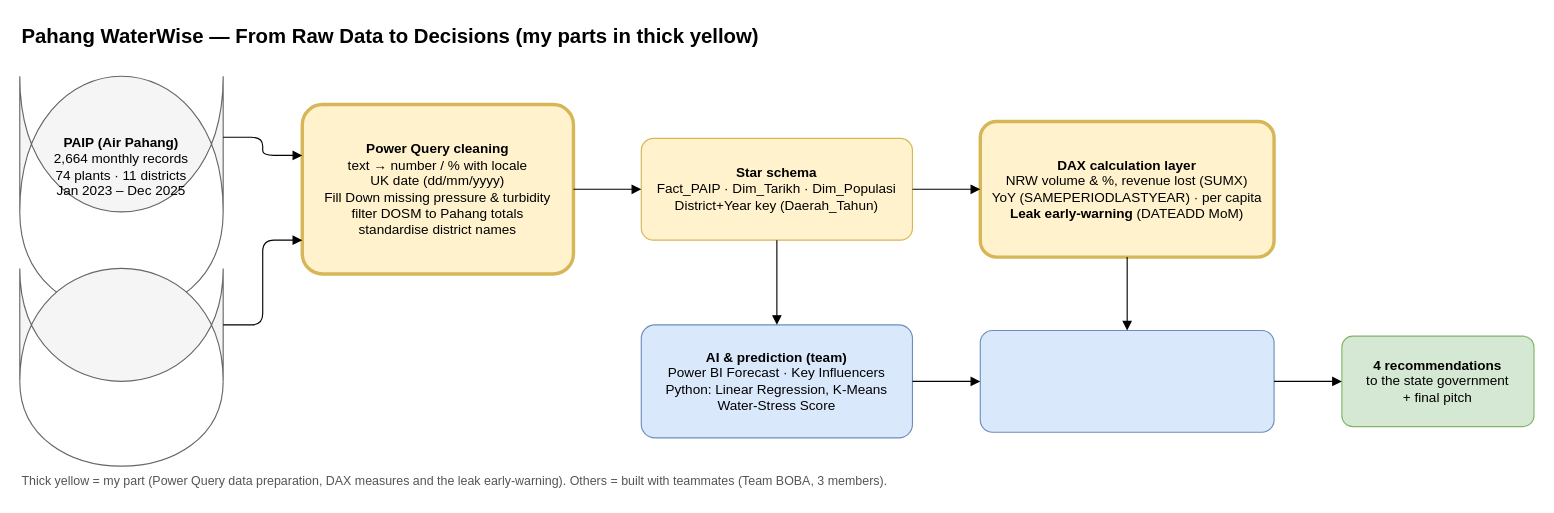
The diagram is 1554 pixels wide and 513 high, and some of its shapes have lost their labels. Each missing label, with the box of its shape:
Dashboard Overview · NRW Deep Dive Early Warning · Water Stress: (979, 329, 1274, 432)
OpenDOSM 383,040 population rows (national): (19, 267, 223, 381)
